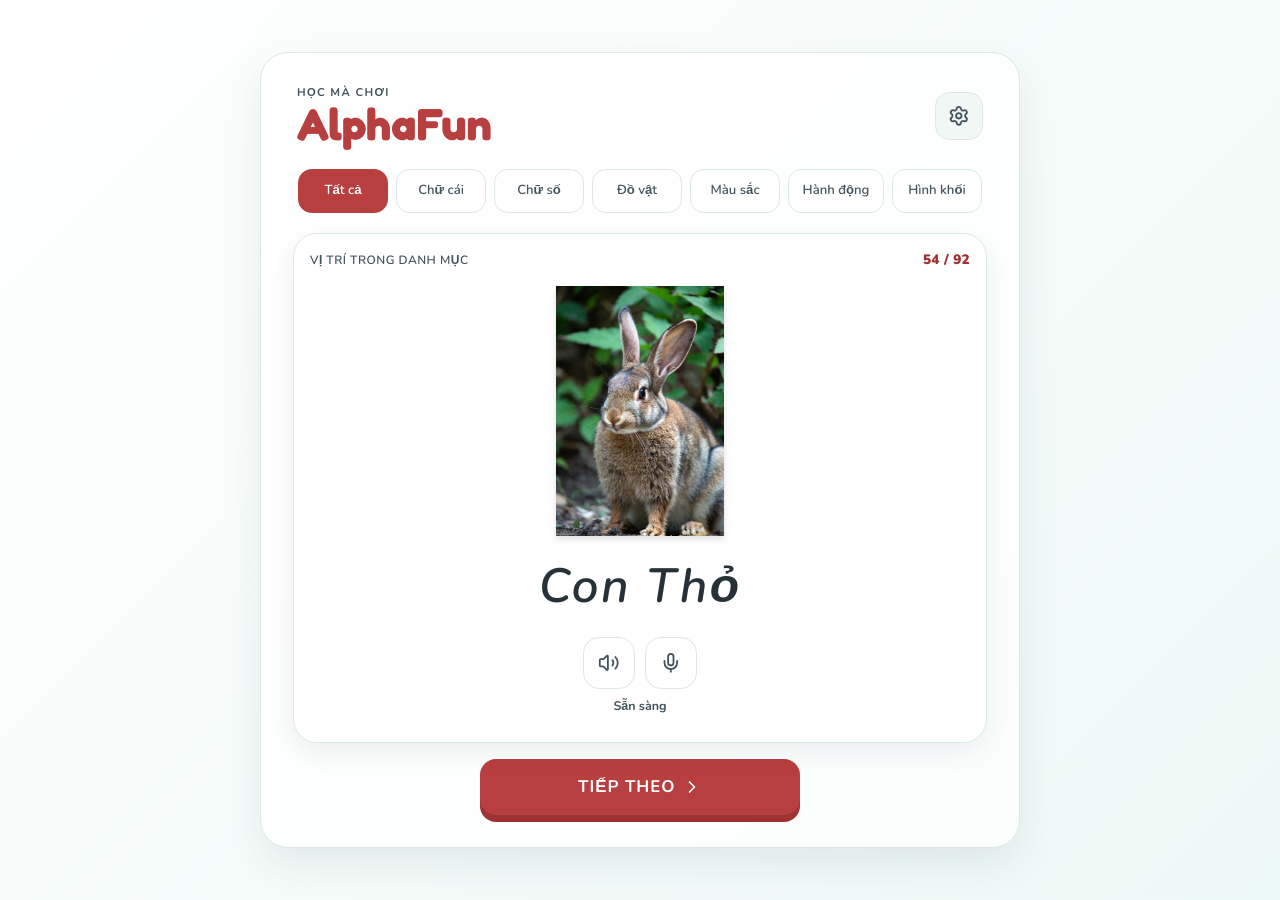
Test case: App Component › dismisses settings from outside while keeping inside interaction open
Click the button named "Mở cài đặt".
click(959, 116)  # box top-left (935, 92), bottom-right (983, 140)
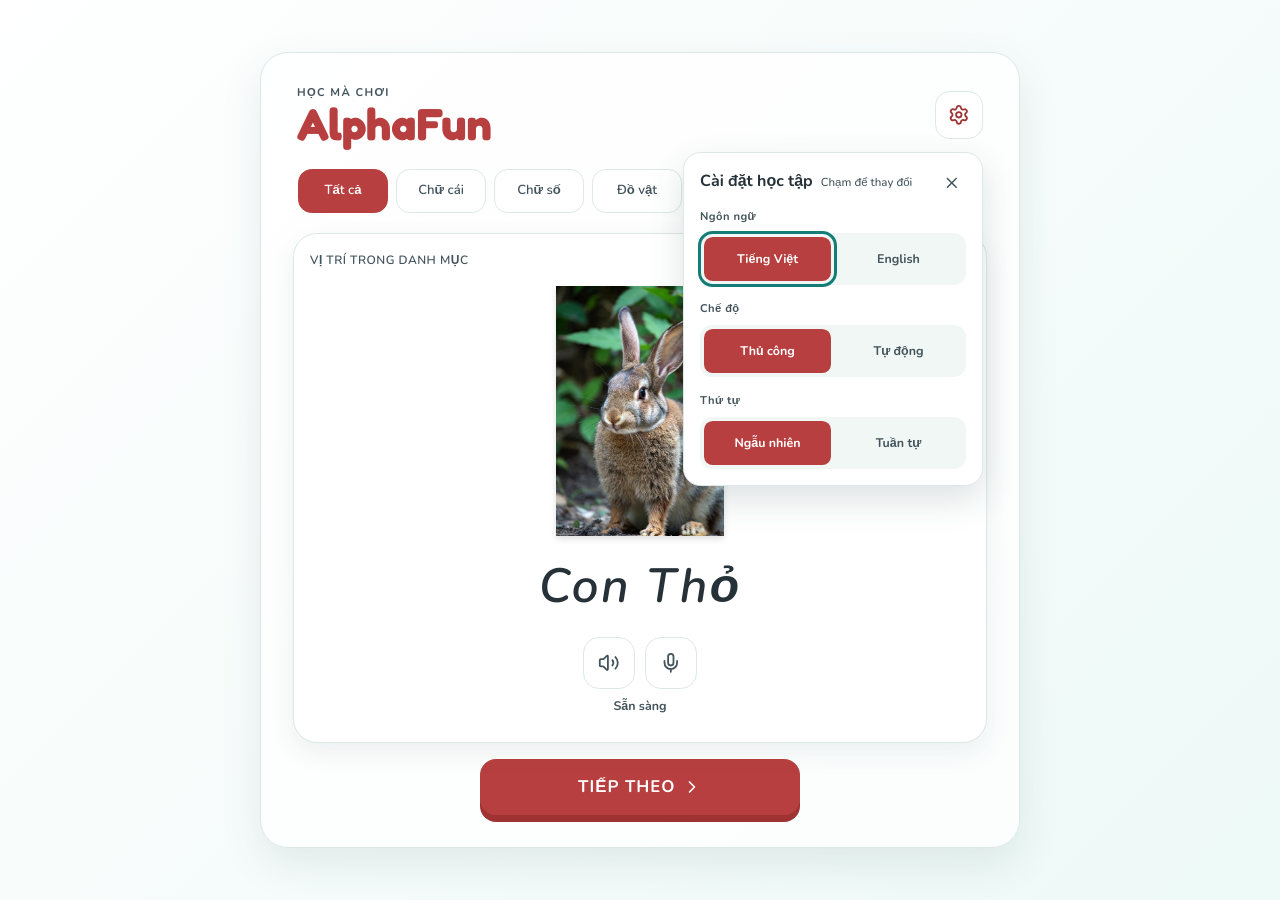
Click the button "Tự động".
click(898, 351)  # box top-left (835, 329), bottom-right (962, 373)
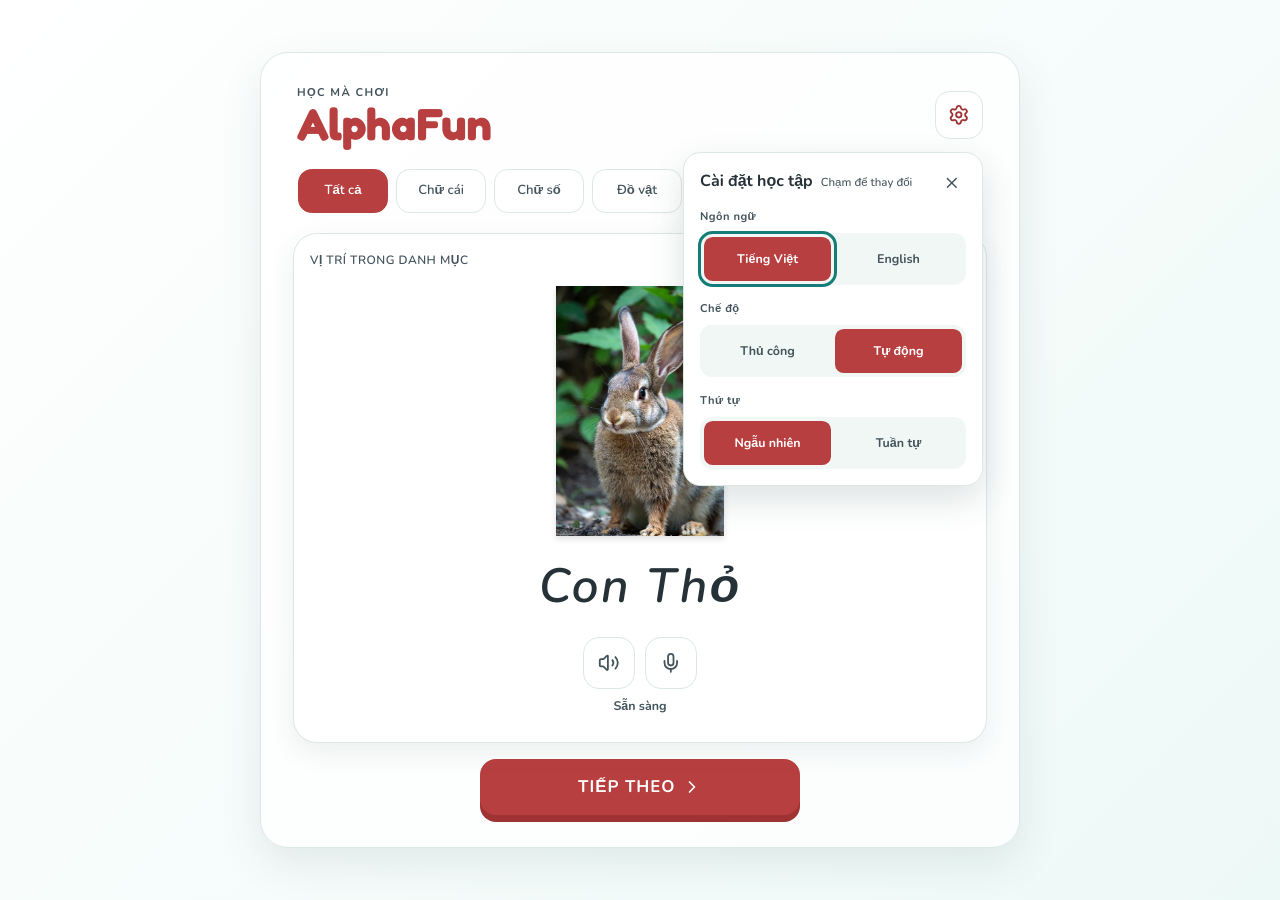
Expected: the dialog "Cài đặt học tập" is shown, top-left (683, 152), bottom-right (983, 486)
Press the mouse on the element that starts with "Học mà chơi" at (640, 450), box top-left (0, 0), bottom-right (1279, 899)
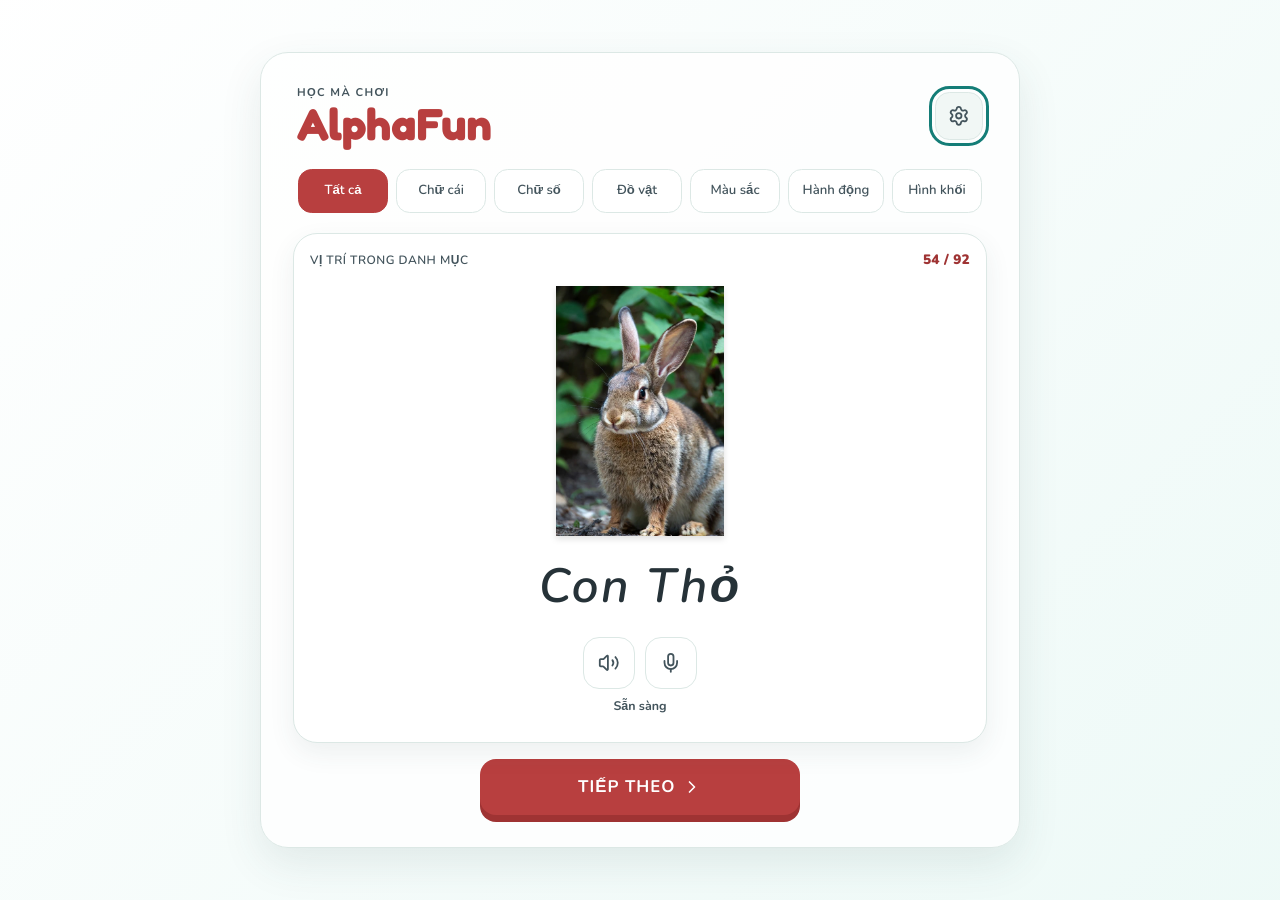
Expected: the text "Cài đặt học tập" is gone
